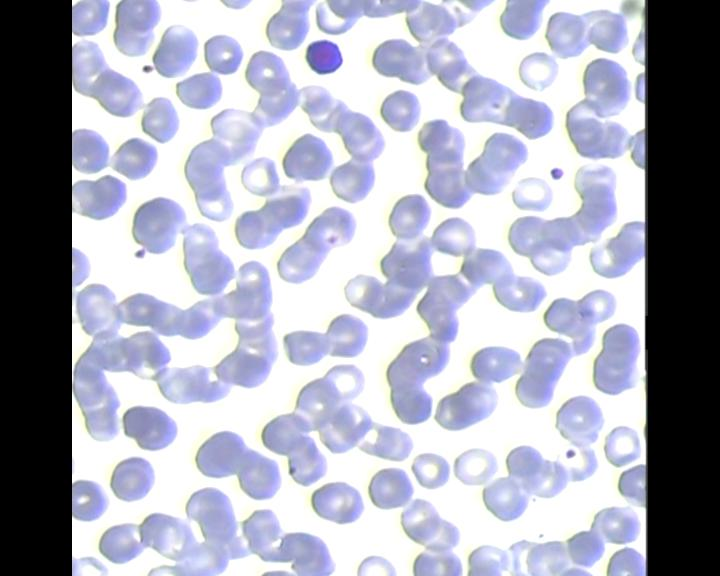lymp: (305, 34, 343, 75)
